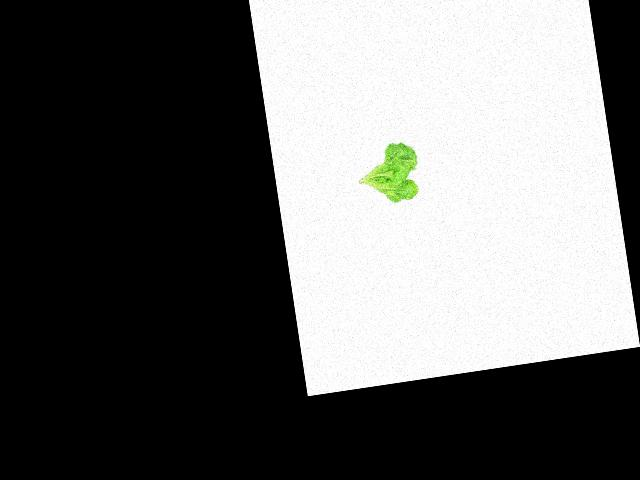lettuce: (351, 136, 427, 210)
